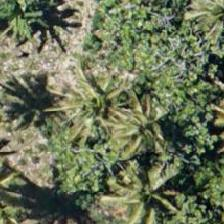coconut_tree: (98, 75, 188, 165), (53, 62, 143, 152), (94, 138, 184, 223), (173, 0, 223, 49)
